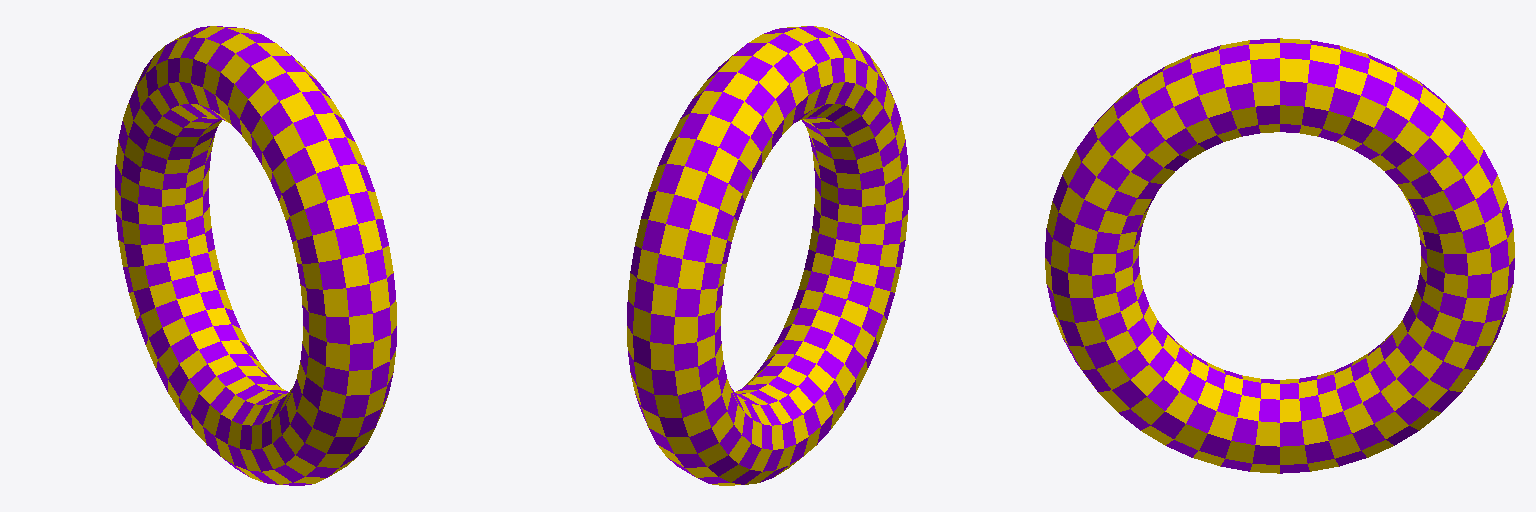
The picture shows the model from 3 angles: view 1: azimuth 30°, elevation 25°; view 2: azimuth 150°, elevation 25°; view 3: azimuth 270°, elevation 25°; orthographic projection.
Parts seen in each view (by area): view 1: Torus; view 2: Torus; view 3: Torus.
Boxes of the visible parts, box(x1,y1,x2,y2) form: Torus: box(115, 26, 396, 485); Torus: box(627, 26, 908, 485); Torus: box(1045, 38, 1514, 473).
Bounding box in the file's own units: 100 × 500 × 500.
1 materials, 1 textured.